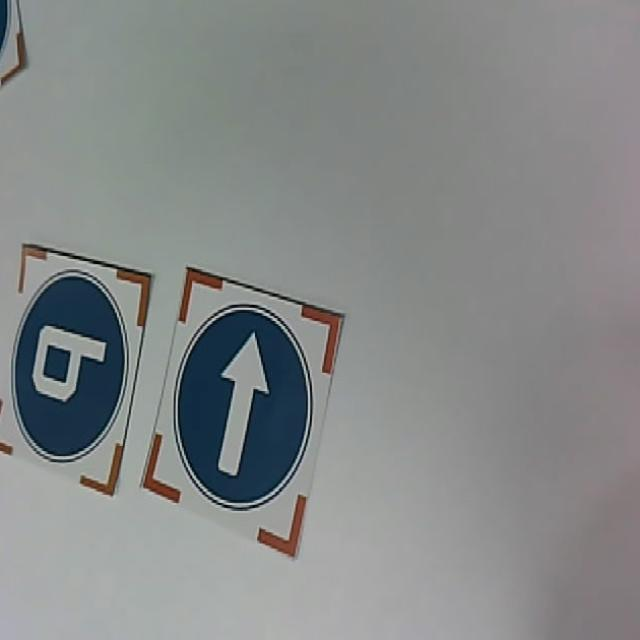parking: (0, 246, 150, 495)
straight: (143, 268, 346, 560)
